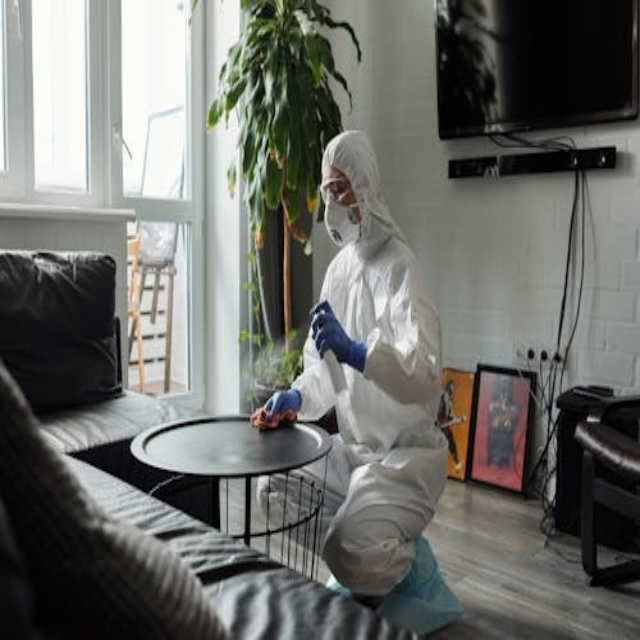Gafas: (321, 178, 354, 202)
Guantes: (311, 303, 365, 371), (262, 388, 301, 422)
Mascara: (324, 197, 361, 248)
